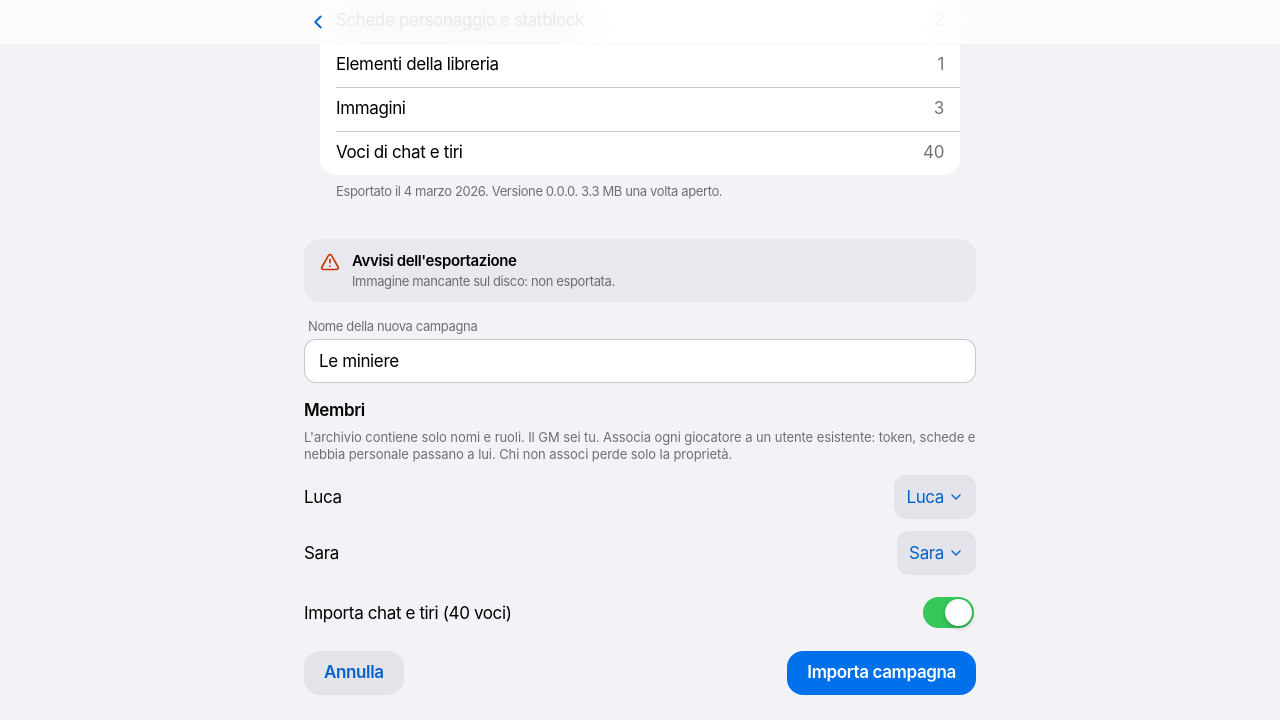
Scenario: schermata Backup e importazione › importa: anteprima, associazione dei giocatori, avanzamento, risultato e apertura della nuova campagna
Earlier steps of the test are not shown.
Later steps or results of the test are not shown.
(page scrolled)
Expected: the text "Voci di chat e tiri" is shown, left=336, top=142, right=463, bottom=162
Expected: the text "Avvisi dell'esportazione" is shown, left=352, top=251, right=516, bottom=270
Replace the text in the field labelled "Nome della nuova campagna" with "Le miniere (copia)" at (640, 361), box left=317, top=340, right=963, bottom=382
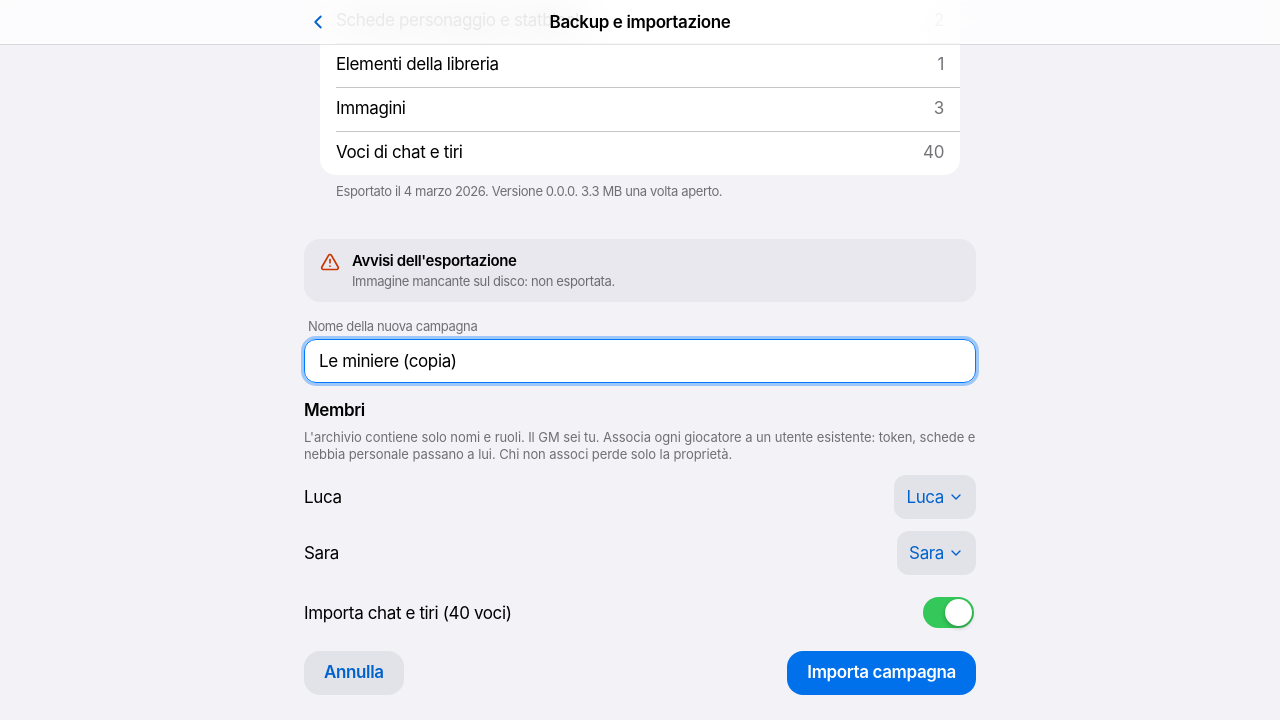
Click the button with aria-label "Utente per Sara" at (937, 552), box left=897, top=530, right=976, bottom=574
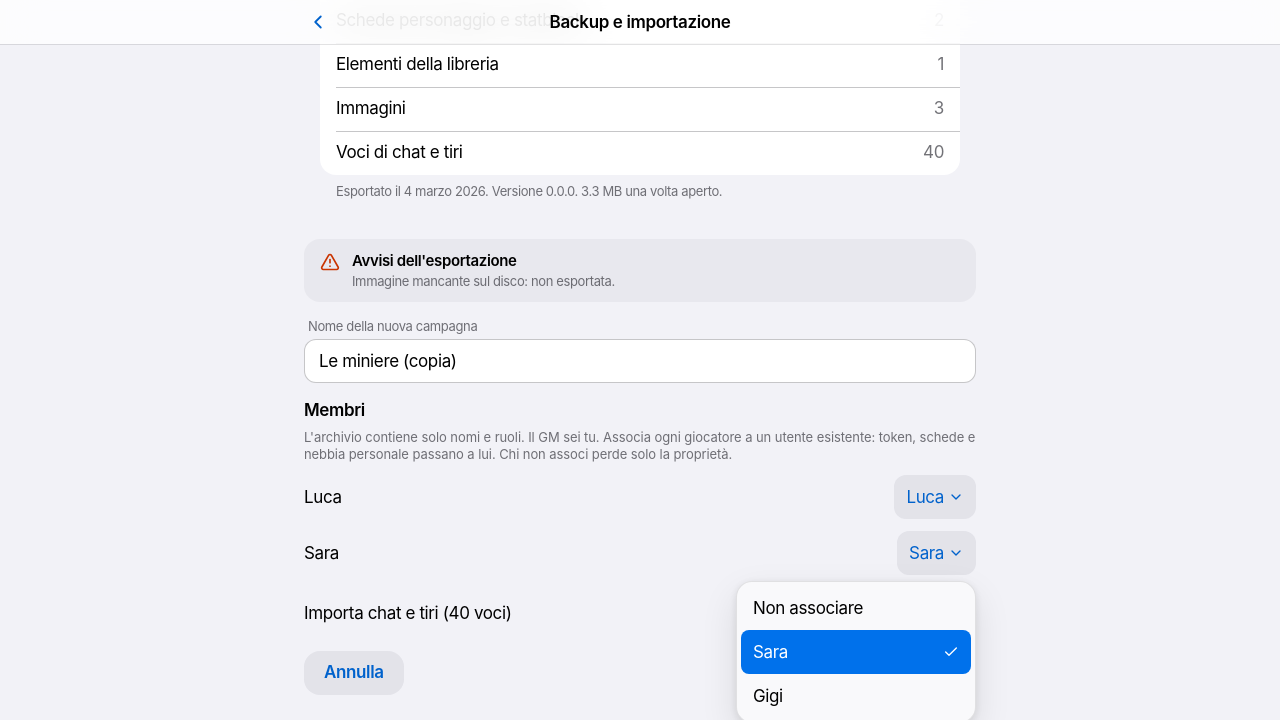
Click the menu item "Non associare" at (856, 608), box left=741, top=586, right=971, bottom=630
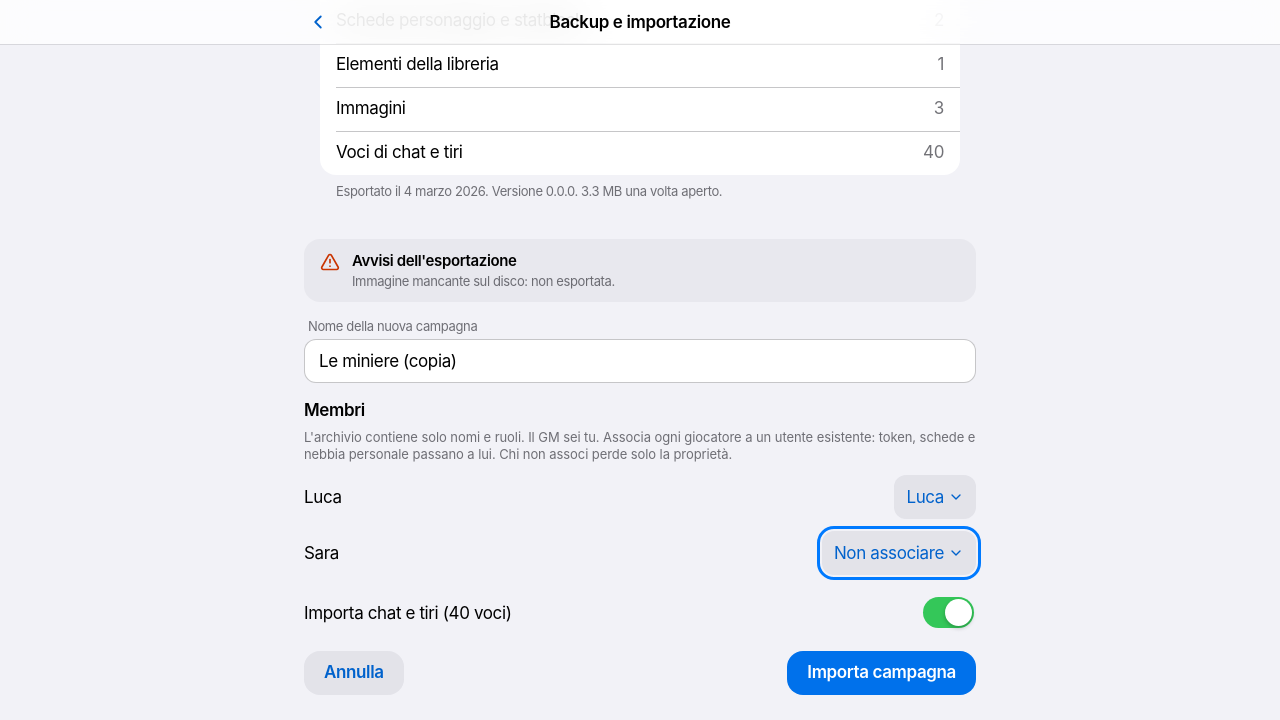
Click the button "Importa campagna" at (882, 672), box left=787, top=650, right=976, bottom=694
(page scrolled)
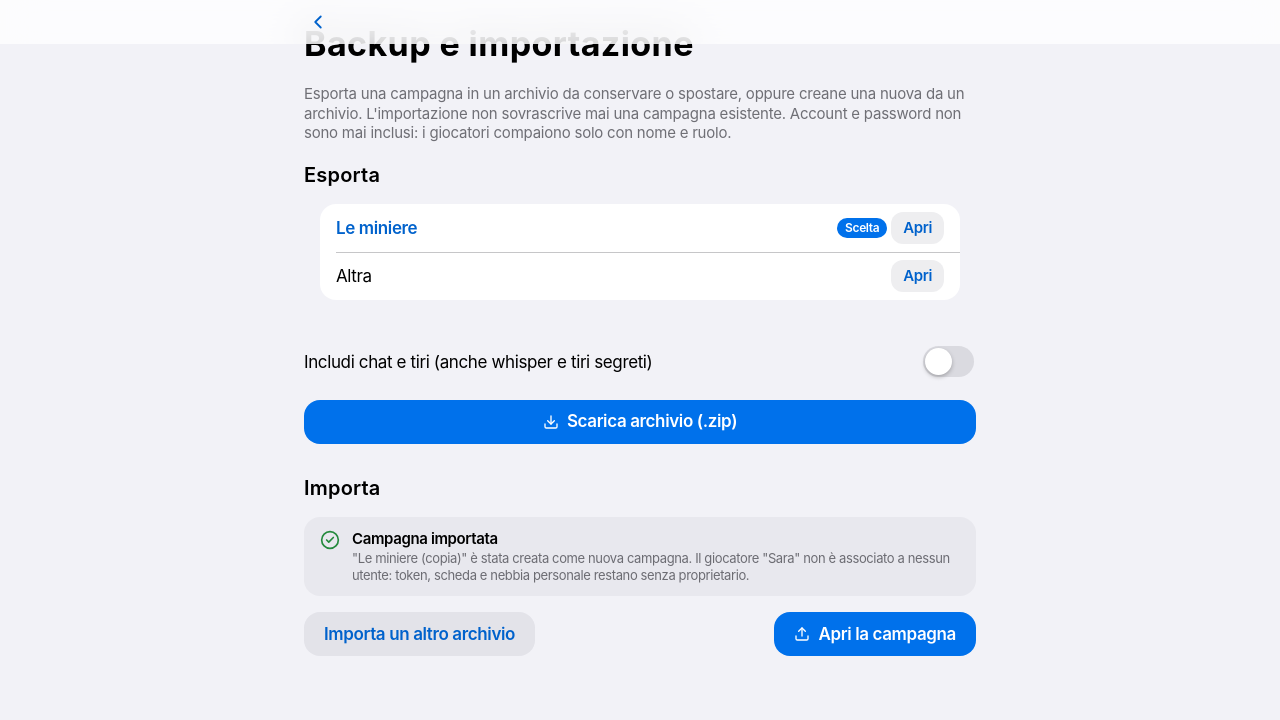
Now the text "Campagna importata" is shown, box left=352, top=529, right=498, bottom=548
Now the text "non è associato" is shown, box left=352, top=550, right=950, bottom=583
